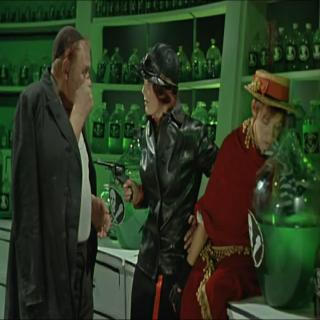gun: (92, 157, 134, 202)
